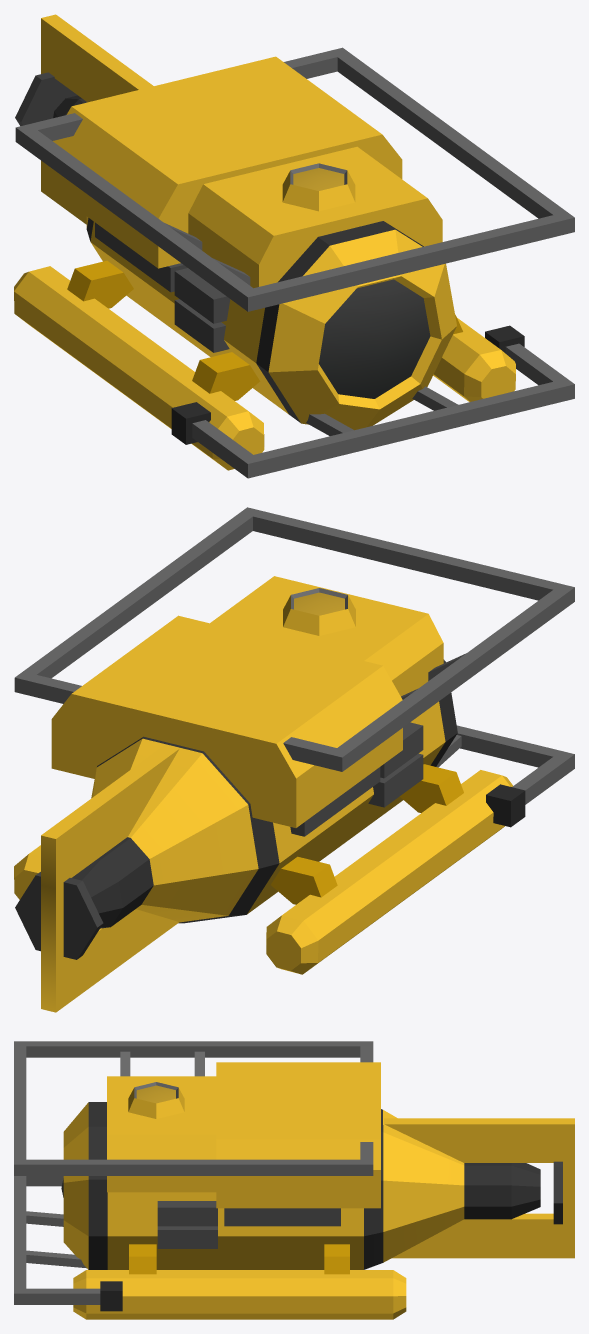
Rendered from Submersible.fbx.
3 views of the same model, one above another, from view 1: azimuth 30°, elevation 25°; view 2: azimuth 150°, elevation 25°; view 3: azimuth 270°, elevation 25° (orthographic). The views are drawn at different scales.
Visible parts, largest first — view 1: Submersible; view 2: Submersible; view 3: Submersible.
Boxes of the visible parts, x1,y1,x2,y2 form: Submersible: [14, 14, 574, 478]; Submersible: [14, 507, 574, 1012]; Submersible: [14, 1041, 574, 1319].
Bounding box in the file's own units: 339 × 218 × 630.
